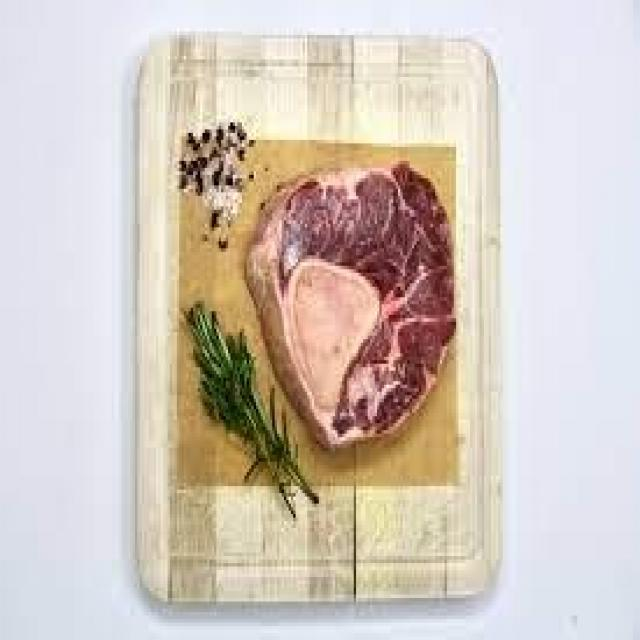beef: (262, 173, 461, 436)
